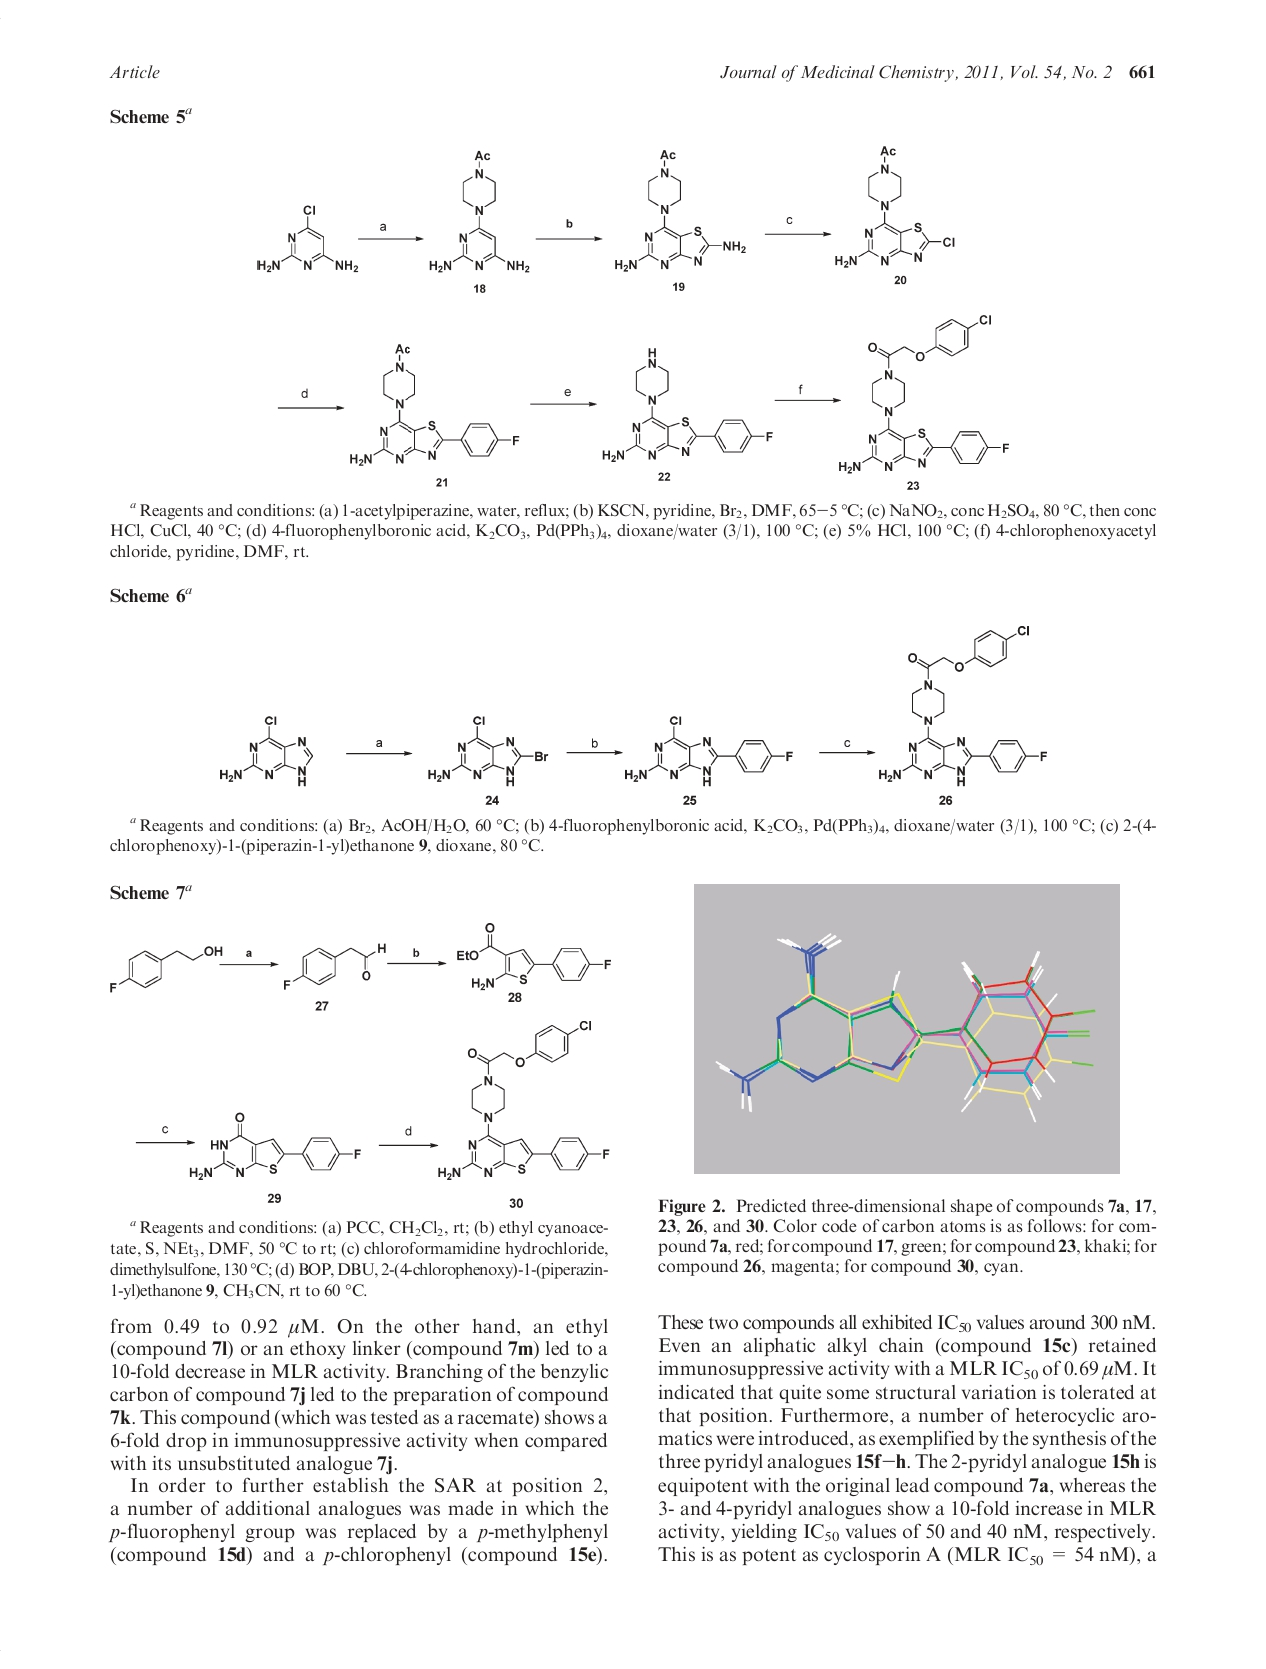exist_molecular: (435, 1017, 612, 1184), (836, 311, 1012, 476), (876, 622, 1048, 789), (346, 339, 523, 469), (600, 342, 777, 463), (613, 148, 751, 274), (832, 144, 957, 270), (428, 148, 535, 281), (622, 711, 797, 789), (188, 1110, 364, 1180), (453, 922, 617, 989), (424, 711, 551, 787), (251, 198, 362, 278), (217, 711, 316, 793), (104, 942, 223, 993), (281, 940, 388, 991)
